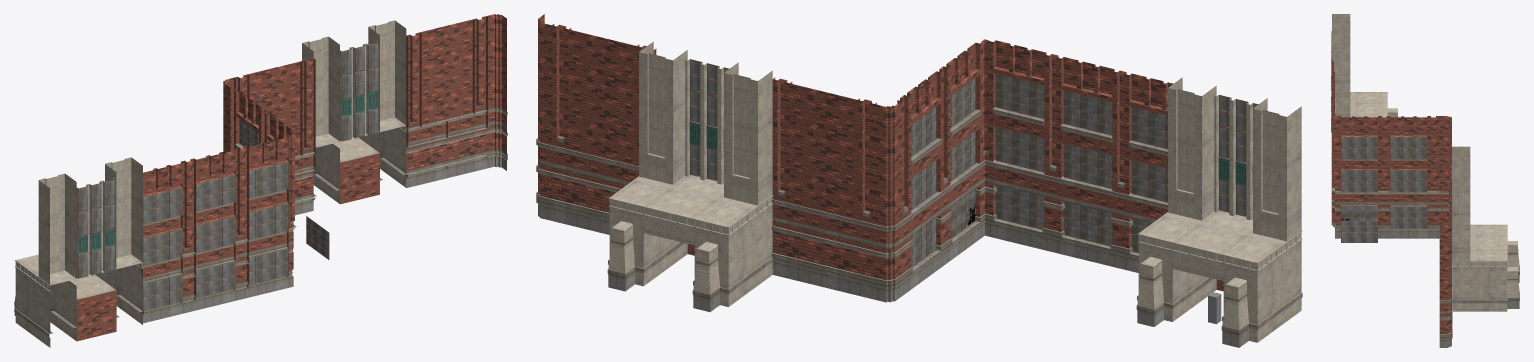
File: FullTest.FBX
3 renders of one model, left to right at view 1: azimuth 30°, elevation 25°; view 2: azimuth 150°, elevation 25°; view 3: azimuth 270°, elevation 25°, orthographic. The views are drawn at different scales.
Visible parts, largest first — view 1: Object003, Concrete2 trim013, Object004, Concrete2 trim020, ConcreteWall001, BrickWall005, BrickWall012, BrickWall013, BrickWall014, Windows008, Windows003, Windows004 (+73 smaller); view 2: Object003, Object004, Concrete2 trim020, Concrete2 trim013, ConcreteWall029, ConcreteWall020, Concrete2 trim018, Concrete2 trim001, Concrete Pillar003, Concrete Pillar001, BrickWall013, BrickWall014 (+93 smaller); view 3: ConcreteWall029, Object004, ConcreteWall028, Object003, ConcreteWall020, Windows002, Windows006, Concrete2 trim018, Windows001, Windows007, Concrete Pillar003, Windows012 (+36 smaller).
Part boxes in pixels (x1,y1,x2,y2): Object003: (38, 157, 142, 229); Concrete2 trim013: (38, 199, 142, 270); Object004: (302, 20, 406, 85); Concrete2 trim020: (315, 62, 406, 127); ConcreteWall001: (27, 264, 142, 333); BrickWall005: (76, 290, 116, 341); BrickWall012: (340, 153, 379, 204); BrickWall013: (74, 228, 114, 278); BrickWall014: (340, 91, 378, 141); Windows008: (249, 203, 288, 240); Windows003: (249, 248, 288, 285); Windows004: (196, 261, 235, 298); Object003: (1168, 77, 1301, 170); Object004: (639, 41, 772, 134); Concrete2 trim020: (639, 105, 772, 187); Concrete2 trim013: (1168, 141, 1301, 223); ConcreteWall029: (610, 174, 757, 226); ConcreteWall020: (1139, 210, 1286, 262); Concrete2 trim018: (608, 207, 744, 306); Concrete2 trim001: (1137, 243, 1273, 342); Concrete Pillar003: (607, 221, 720, 311); Concrete Pillar001: (1136, 256, 1249, 347); BrickWall013: (1214, 157, 1252, 220); BrickWall014: (685, 121, 723, 184); ConcreteWall029: (1470, 225, 1507, 261); Object004: (1452, 146, 1470, 216); ConcreteWall028: (1452, 267, 1488, 300); Object003: (1332, 14, 1350, 83); ConcreteWall020: (1350, 92, 1387, 117); Windows002: (1390, 206, 1427, 228); Windows006: (1390, 170, 1427, 192); Concrete2 trim018: (1489, 267, 1507, 311); Windows001: (1341, 220, 1377, 242); Windows007: (1341, 170, 1377, 192); Concrete Pillar003: (1507, 241, 1519, 308); Windows012: (1390, 137, 1427, 158).
Bounding box in the file's own units: 2536 × 736 × 981.
